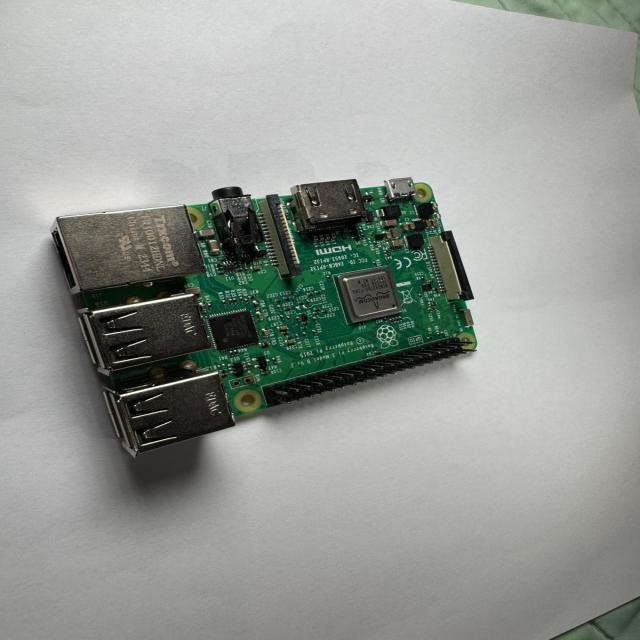CPU: (331, 266, 405, 329)
Ethernet: (52, 205, 201, 292)
GPIO: (266, 340, 477, 410)
HDMI: (288, 179, 370, 239)
RAM-3: (208, 309, 264, 359)
Raspberry: (51, 178, 478, 459)
